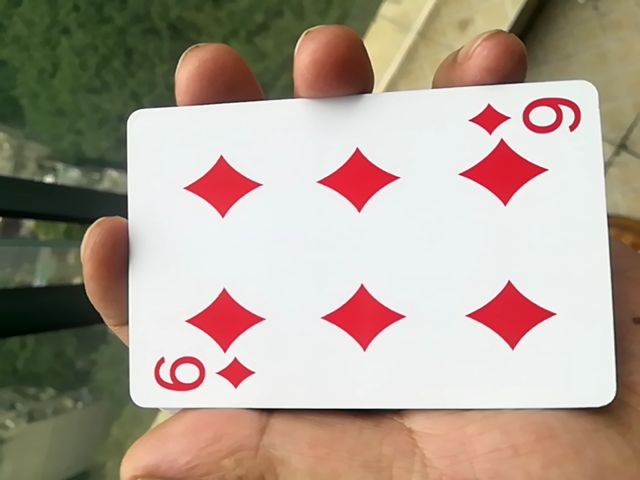fk 6: (111, 96, 622, 422)
